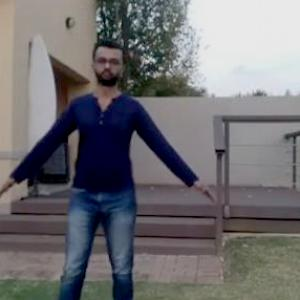land: (20, 49, 204, 299)
